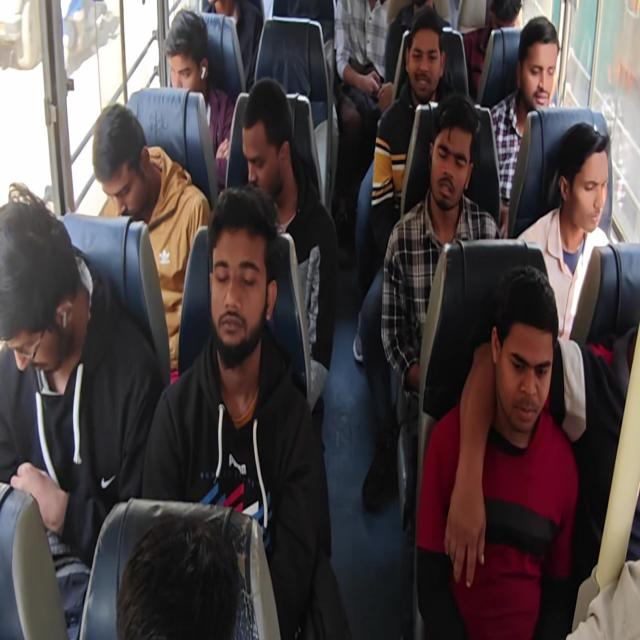person: (1, 2, 638, 638), (141, 183, 348, 638), (456, 121, 639, 588), (0, 181, 164, 638), (415, 264, 579, 638), (380, 91, 501, 398), (352, 6, 455, 362), (240, 76, 338, 448), (92, 102, 211, 384), (516, 121, 612, 343), (115, 510, 241, 639), (489, 15, 560, 236), (333, 0, 393, 230), (163, 9, 235, 188), (565, 556, 639, 639), (462, 0, 522, 102), (204, 0, 264, 91)
